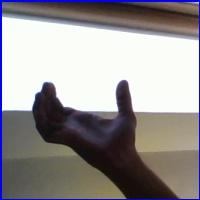space: (26, 73, 146, 170)
